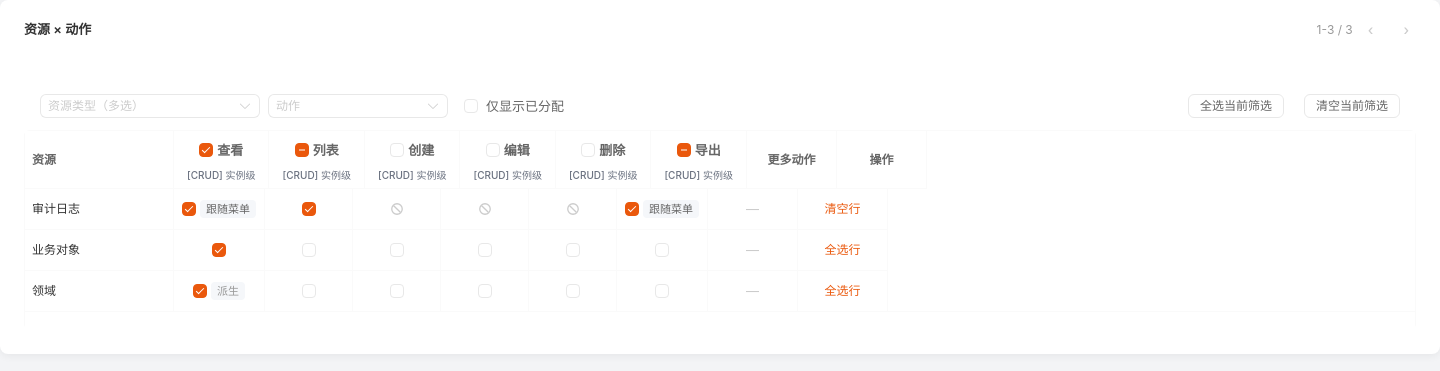
Test: ResourceActionMatrix（P2-Matrix-01） › 筛选：仅显示已分配 → 只保留有 granted 的行
What coordinates should you click on to do the following:
click the checkbox with class "ram-only-assigned"
I would click on:
 (514, 106)
Its box is [464,98,564,114].
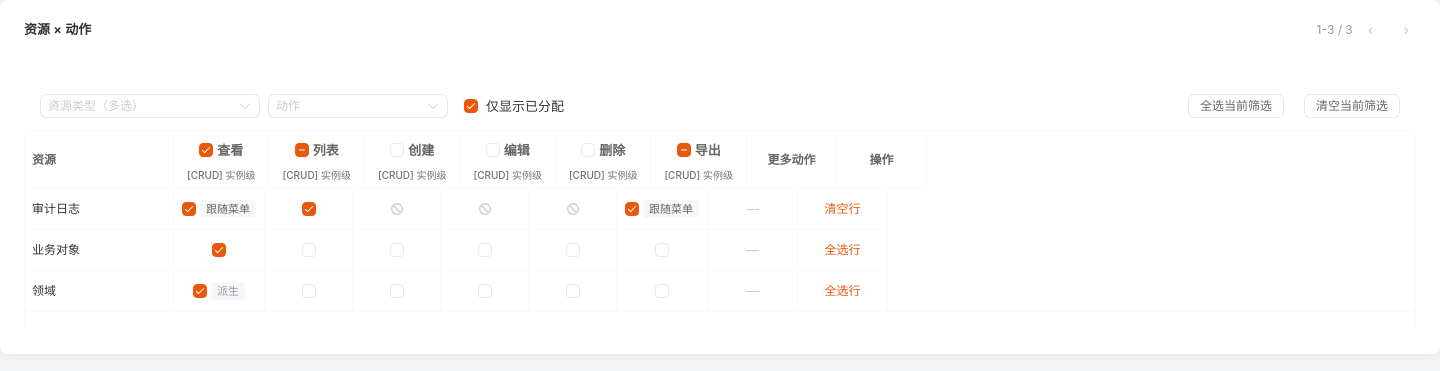
What coordinates should you click on to do the following:
click the button "清空当前筛选"
I would click on:
 (1352, 106)
Its box is [1304,94,1400,118].
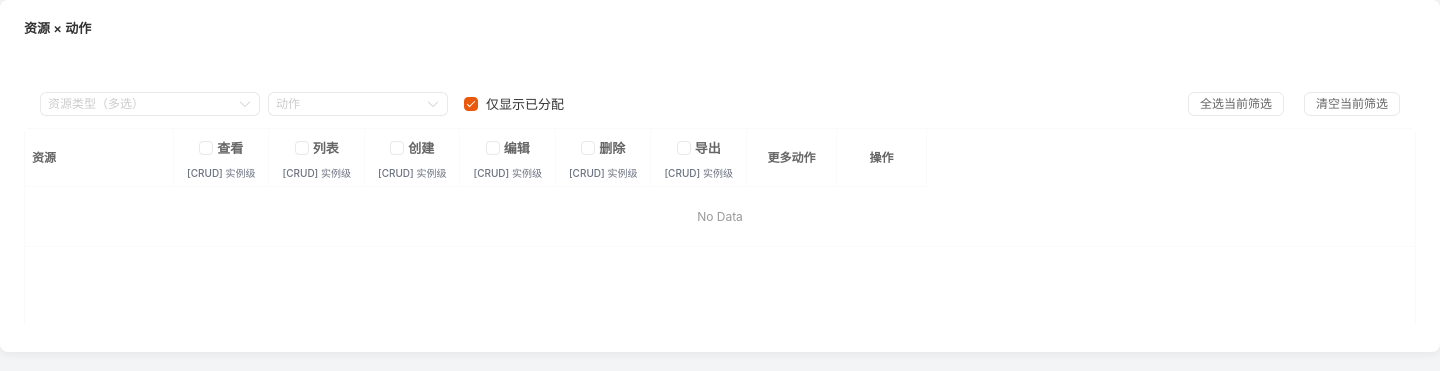
Now no rows are shown
